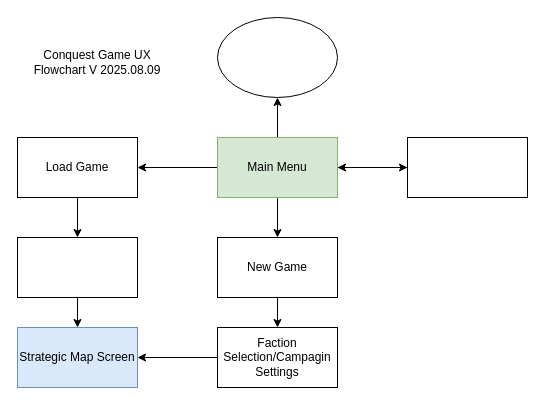
Image size: 545x405. Some labels were removed from this diagram. Each missing label, with the centre of its shape:
"Exit" goes at (x=277, y=57).
"Load Game Menu" goes at (x=77, y=267).
"Options" goes at (x=467, y=167).
